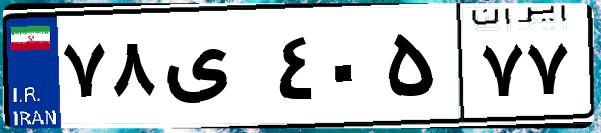0: (330, 28, 385, 110)
4: (270, 28, 330, 110)
5: (385, 28, 445, 110)
7: (57, 26, 110, 100), (475, 38, 525, 113), (525, 38, 570, 115)
8: (110, 28, 158, 98)
ی: (158, 20, 270, 120)
